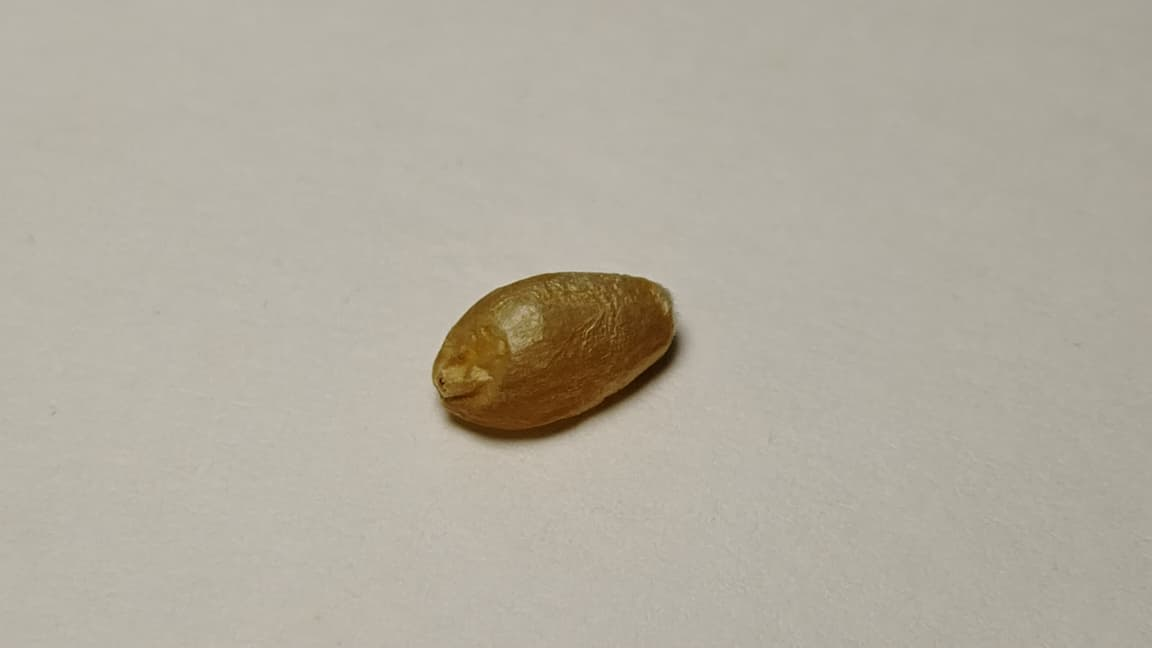healthy: (433, 272, 675, 429)
